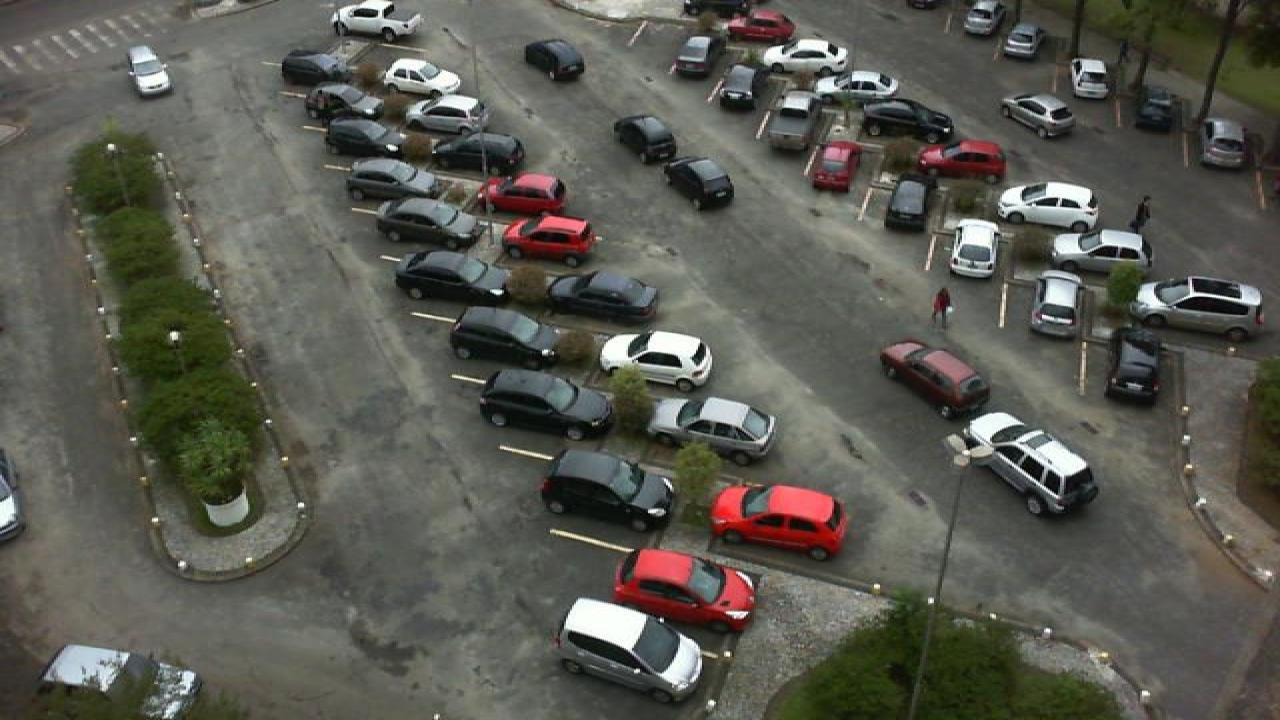Car: (548, 595, 708, 709), (34, 641, 210, 720), (610, 544, 760, 634), (540, 447, 680, 533), (706, 480, 850, 562), (478, 367, 618, 443), (1128, 272, 1270, 343), (646, 395, 778, 467), (446, 304, 566, 370), (594, 330, 716, 393), (392, 249, 514, 306), (546, 268, 658, 323), (372, 197, 486, 251), (996, 180, 1104, 234), (500, 214, 602, 268), (344, 155, 448, 205), (1052, 227, 1154, 277), (1106, 326, 1168, 405), (430, 132, 528, 176), (1028, 268, 1086, 341), (860, 96, 956, 140), (912, 138, 1012, 179), (330, 0, 424, 42), (320, 117, 404, 163), (378, 56, 466, 99), (484, 172, 570, 216), (760, 37, 852, 77), (998, 92, 1076, 138), (278, 46, 358, 90), (404, 95, 490, 135), (948, 217, 1000, 280), (758, 90, 812, 150), (806, 138, 862, 195), (302, 83, 380, 123), (880, 177, 932, 236), (1196, 116, 1250, 170), (816, 70, 900, 103), (722, 8, 796, 43), (714, 63, 762, 109), (1132, 84, 1180, 130), (668, 34, 714, 80), (1068, 56, 1112, 102), (960, 0, 1006, 37), (1000, 25, 1044, 63), (682, 0, 750, 20)
